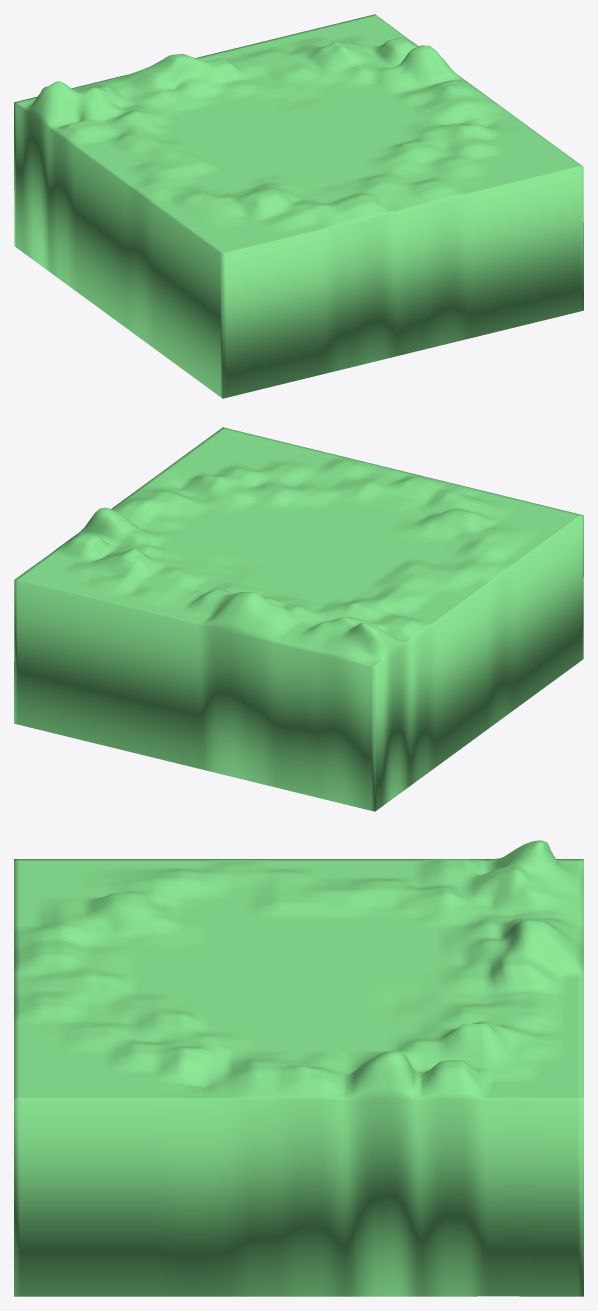
Rendered from Gound.gltf.
The picture shows the model from 3 angles, top to bottom: view 1: azimuth 30°, elevation 25°; view 2: azimuth 150°, elevation 25°; view 3: azimuth 270°, elevation 25°; orthographic projection. The views are drawn at different scales.
Visible parts, largest first — view 1: Gound; view 2: Gound; view 3: Gound.
Part boxes in pixels (<box>): Gound: <box>14,14,583,398</box>; Gound: <box>14,427,583,811</box>; Gound: <box>14,840,583,1296</box>.
Bounding box in the file's own units: 40.04 × 18.38 × 40.01.
